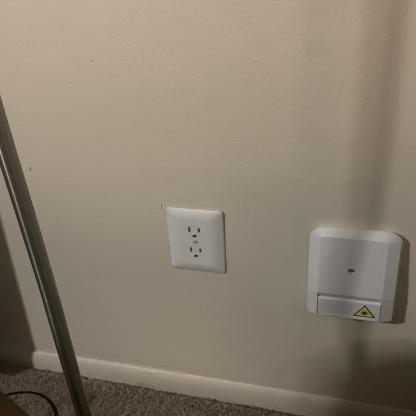OUTLET: (166, 207, 228, 274)
